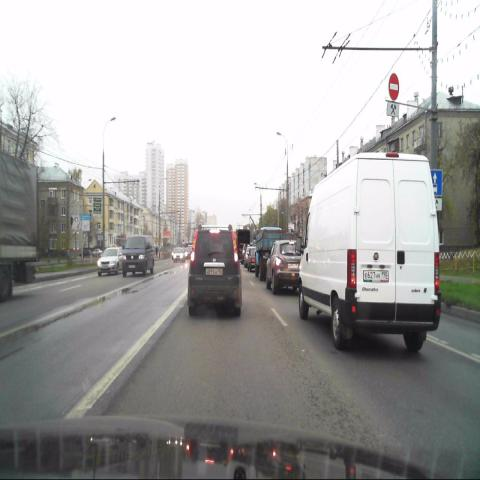3_1: (389, 73, 399, 101)
5_14: (428, 168, 443, 196)
